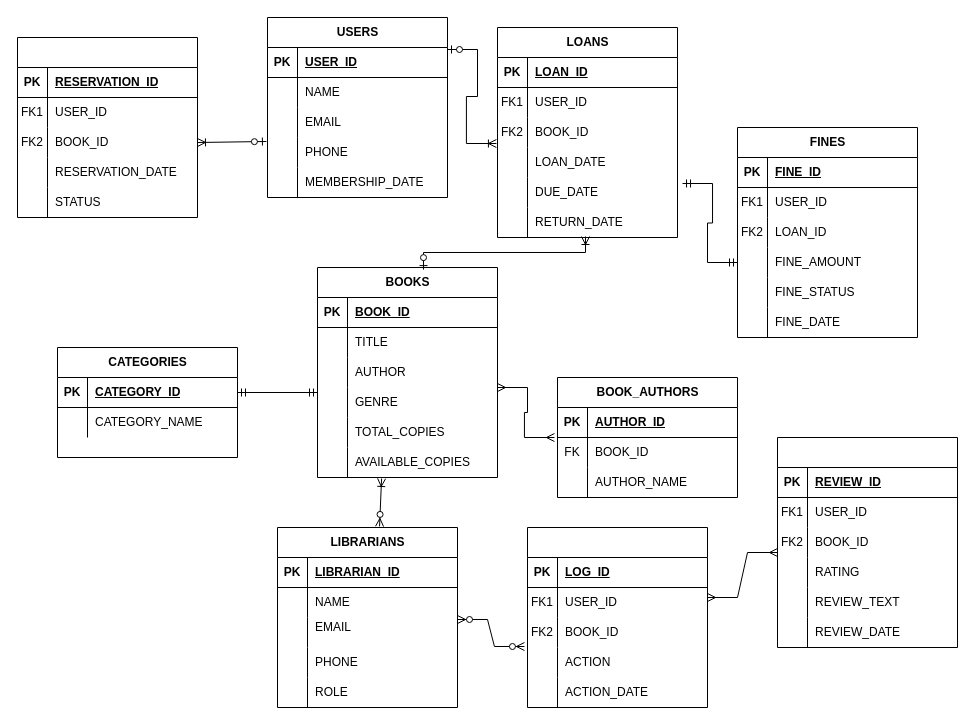
The diagram is 975 pixels wide and 725 high, and some of its shapes have lost their labels. Here are the shapes that lost their labels. From the top down, the box of each, then its label:
(16, 36, 198, 218): RESERVATIONS
(776, 436, 958, 648): FEEDBACKS_REVIEWS
(526, 526, 708, 708): BOOK_ISSUANCE_LOG
